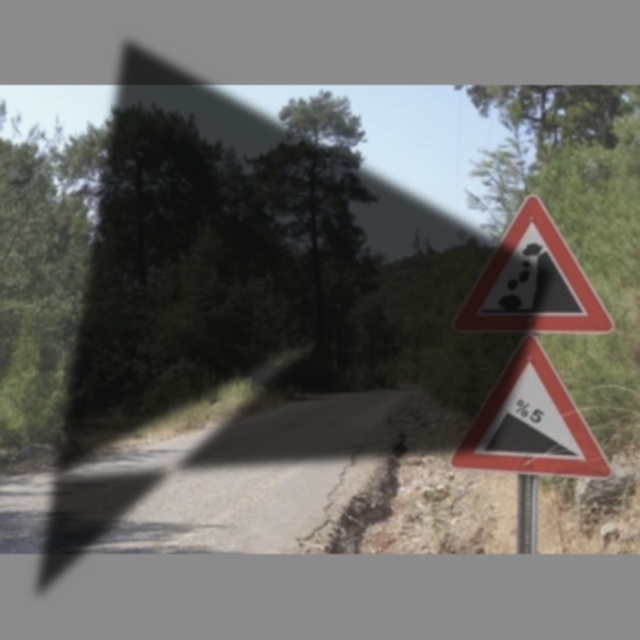Falling_Rocks: (459, 191, 609, 330)
